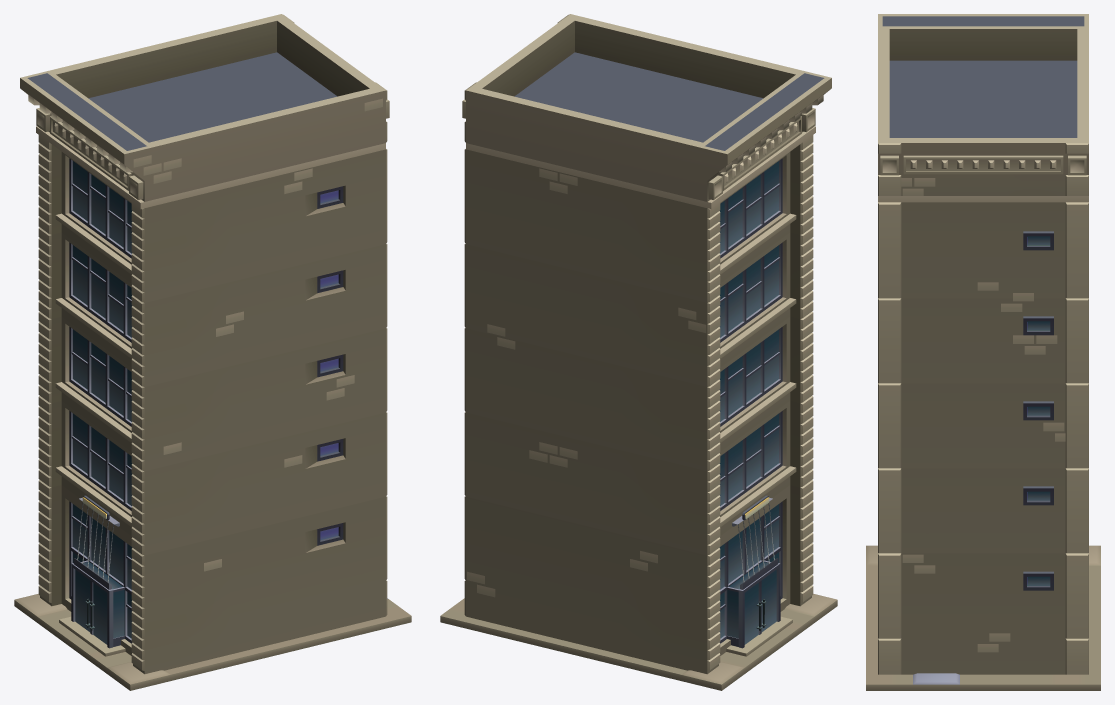
Rendered from Building_12A.fbx.
The picture shows the model from 3 angles, left to right: view 1: azimuth 30°, elevation 25°; view 2: azimuth 150°, elevation 25°; view 3: azimuth 270°, elevation 25°; orthographic projection.
Visible parts, largest first — view 1: Building_12A; view 2: Building_12A; view 3: Building_12A.
Part boxes in pixels (x1,y1,x2,y2): Building_12A: (14,14,411,690); Building_12A: (440,14,837,690); Building_12A: (866,14,1100,690).
Bounding box in the file's own units: 427 × 771 × 305.
